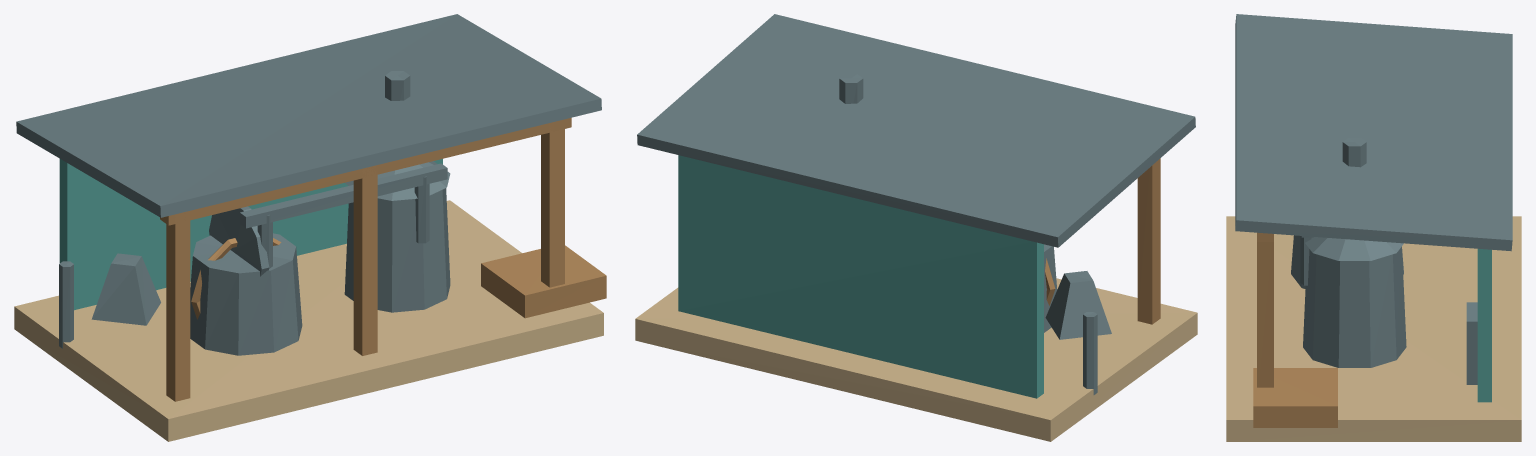
File: Brewery.glb
3 renders of one model, left to right at view 1: azimuth 30°, elevation 25°; view 2: azimuth 150°, elevation 25°; view 3: azimuth 270°, elevation 25°, orthographic. The views are drawn at different scales.
Parts seen in each view (by area): view 1: wind-pump-static-brewery-galvanized-vessels-roof, wind-pump-static-brewery-cream-plaster-base, wind-pump-static-brewery-warm-timber-frame, wind-pump-static-brewery-muted-teal-panels, wind-pump-static-brewery-dark-iron-manifold, wind-pump-static-brewery-restrained-copper-accent; view 2: wind-pump-static-brewery-galvanized-vessels-roof, wind-pump-static-brewery-muted-teal-panels, wind-pump-static-brewery-cream-plaster-base, wind-pump-static-brewery-dark-iron-manifold, wind-pump-static-brewery-warm-timber-frame; view 3: wind-pump-static-brewery-galvanized-vessels-roof, wind-pump-static-brewery-cream-plaster-base, wind-pump-static-brewery-warm-timber-frame, wind-pump-static-brewery-muted-teal-panels, wind-pump-static-brewery-dark-iron-manifold.
Boxes of the visible parts, box(x1,y1,x2,y2) form: wind-pump-static-brewery-galvanized-vessels-roof: box(16, 14, 601, 355); wind-pump-static-brewery-cream-plaster-base: box(14, 200, 603, 441); wind-pump-static-brewery-warm-timber-frame: box(160, 117, 606, 401); wind-pump-static-brewery-muted-teal-panels: box(59, 159, 442, 310); wind-pump-static-brewery-dark-iron-manifold: box(59, 71, 447, 348); wind-pump-static-brewery-restrained-copper-accent: box(191, 238, 281, 319); wind-pump-static-brewery-galvanized-vessels-roof: box(637, 14, 1195, 332); wind-pump-static-brewery-muted-teal-panels: box(678, 155, 1043, 398); wind-pump-static-brewery-cream-plaster-base: box(635, 278, 1197, 441); wind-pump-static-brewery-dark-iron-manifold: box(839, 74, 1111, 394); wind-pump-static-brewery-warm-timber-frame: box(1137, 158, 1160, 324); wind-pump-static-brewery-galvanized-vessels-roof: box(1235, 14, 1512, 367); wind-pump-static-brewery-cream-plaster-base: box(1226, 216, 1521, 441); wind-pump-static-brewery-warm-timber-frame: box(1253, 232, 1337, 427); wind-pump-static-brewery-muted-teal-panels: box(1477, 248, 1491, 402); wind-pump-static-brewery-dark-iron-manifold: box(1300, 137, 1477, 384).
Bounding box in the file's own units: 4.18 × 2.15 × 2.45.
